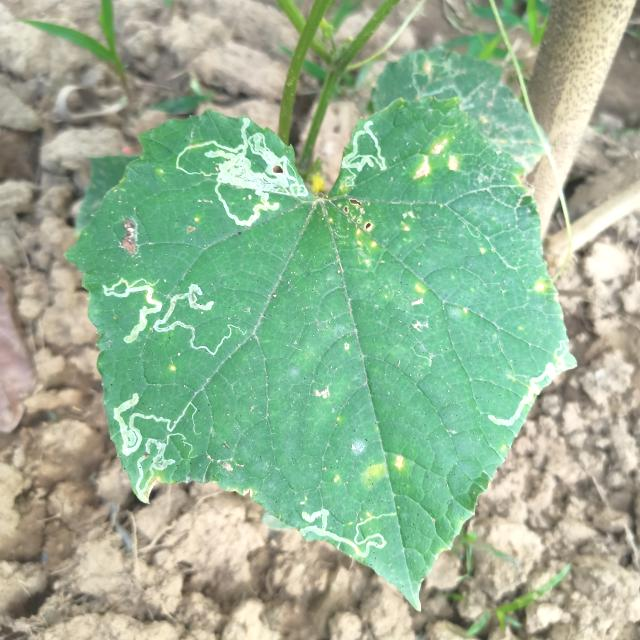disease_cucumber: (341, 197, 382, 267), (413, 137, 463, 186), (359, 453, 413, 493)
